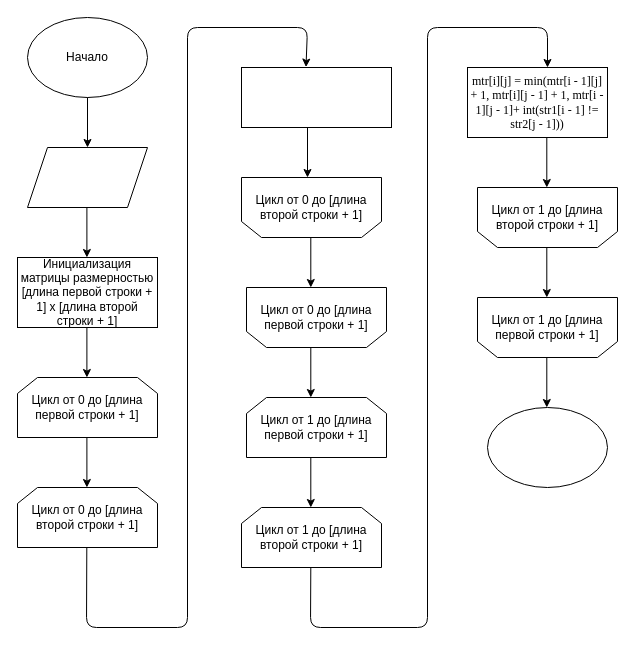
The diagram is 635 pixels wide and 653 high, and some of its shapes have lost their labels. The centre of each missing label's shape, as x and y in pixels:
"mtr[i][j] = i + j" belongs at point 316,97.
"Ввод строк str1 и str2" belongs at point 87,177.
"Конец" belongs at point 547,447.
